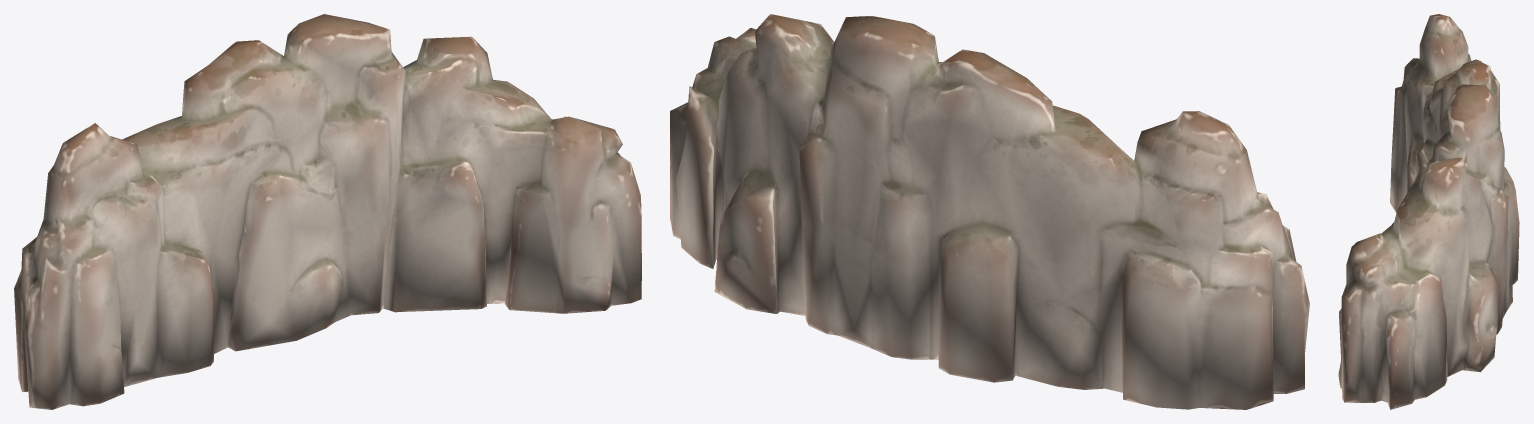
The model's file is Rock Wall 2.FBX.
3 renders of one model, left to right at view 1: azimuth 30°, elevation 25°; view 2: azimuth 150°, elevation 25°; view 3: azimuth 270°, elevation 25°, orthographic. The views are drawn at different scales.
Parts seen in each view (by area): view 1: Rock Wall 2; view 2: Rock Wall 2; view 3: Rock Wall 2.
Boxes of the visible parts, box(x1,y1,x2,y2) form: Rock Wall 2: box(14, 14, 641, 409); Rock Wall 2: box(670, 14, 1309, 409); Rock Wall 2: box(1338, 14, 1519, 409).
Bounding box in the file's own units: 10479 × 4682 × 3478.
1 material, 1 textured.
